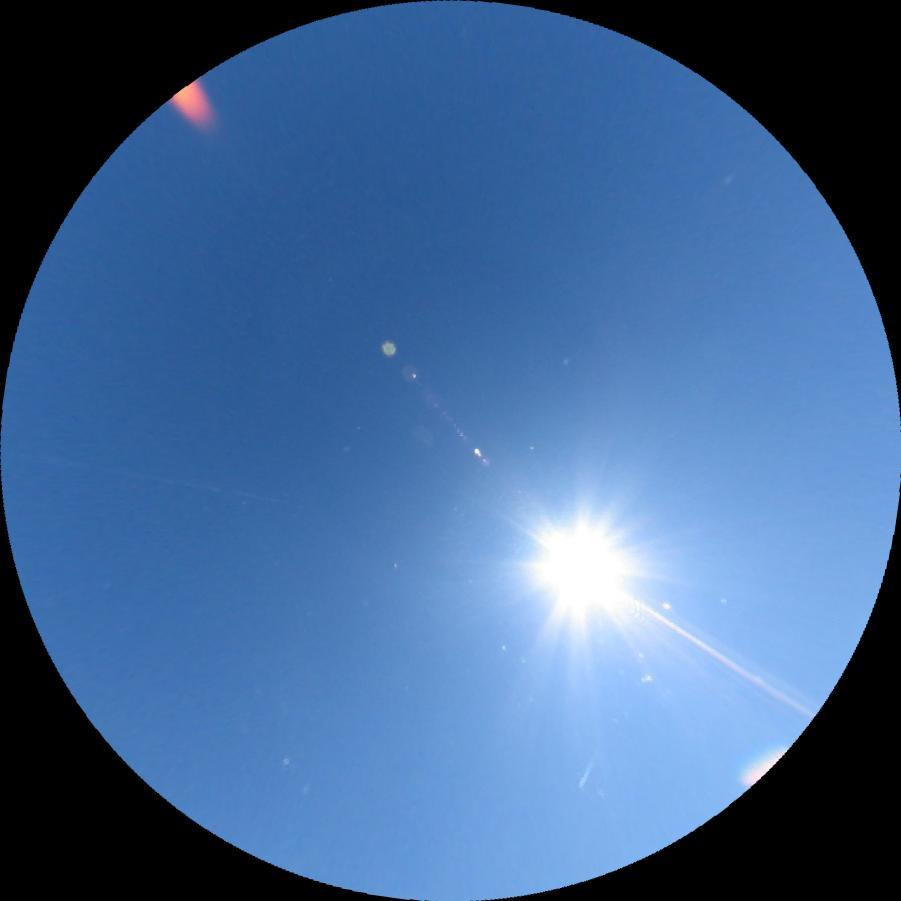contrail young: (574, 746, 601, 791)
parasite: (628, 595, 814, 718)
sun: (525, 507, 638, 628)
